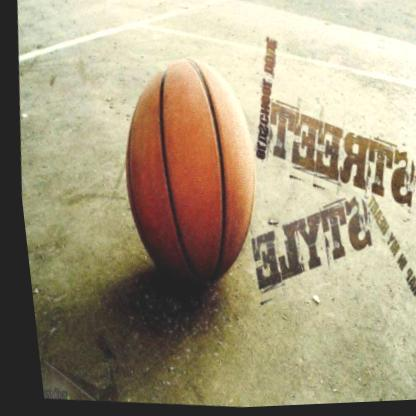basketball: (103, 53, 270, 288)
